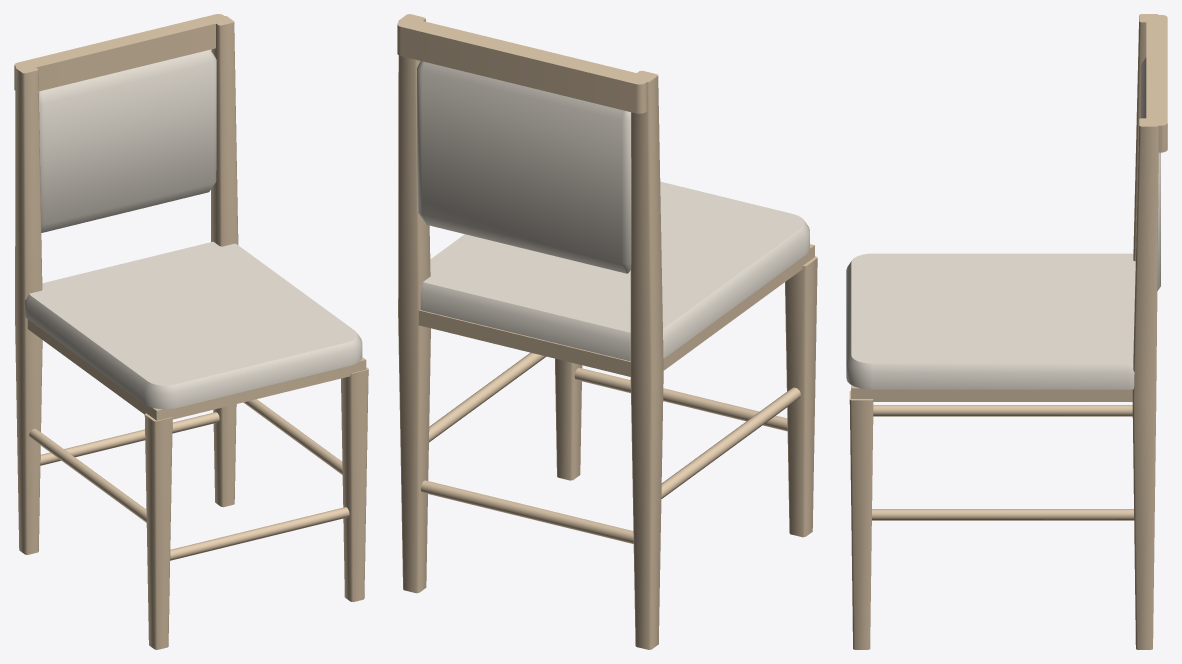
3 views of the same model, side by side, from view 1: azimuth 30°, elevation 25°; view 2: azimuth 150°, elevation 25°; view 3: azimuth 270°, elevation 25° (orthographic). The views are drawn at different scales.
Parts seen in each view (by area): view 1: Ghế ăn; view 2: Ghế ăn; view 3: Ghế ăn.
Part boxes in pixels (x1=…): Ghế ăn: x1=14, y1=14, x2=368, y2=649; Ghế ăn: x1=397, y1=14, x2=817, y2=649; Ghế ăn: x1=846, y1=14, x2=1167, y2=649.
Bounding box in the file's own units: 0.41 × 0.877 × 0.487.
